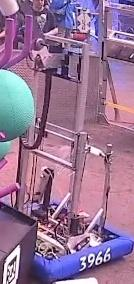blue_number: (76, 244, 113, 275)
